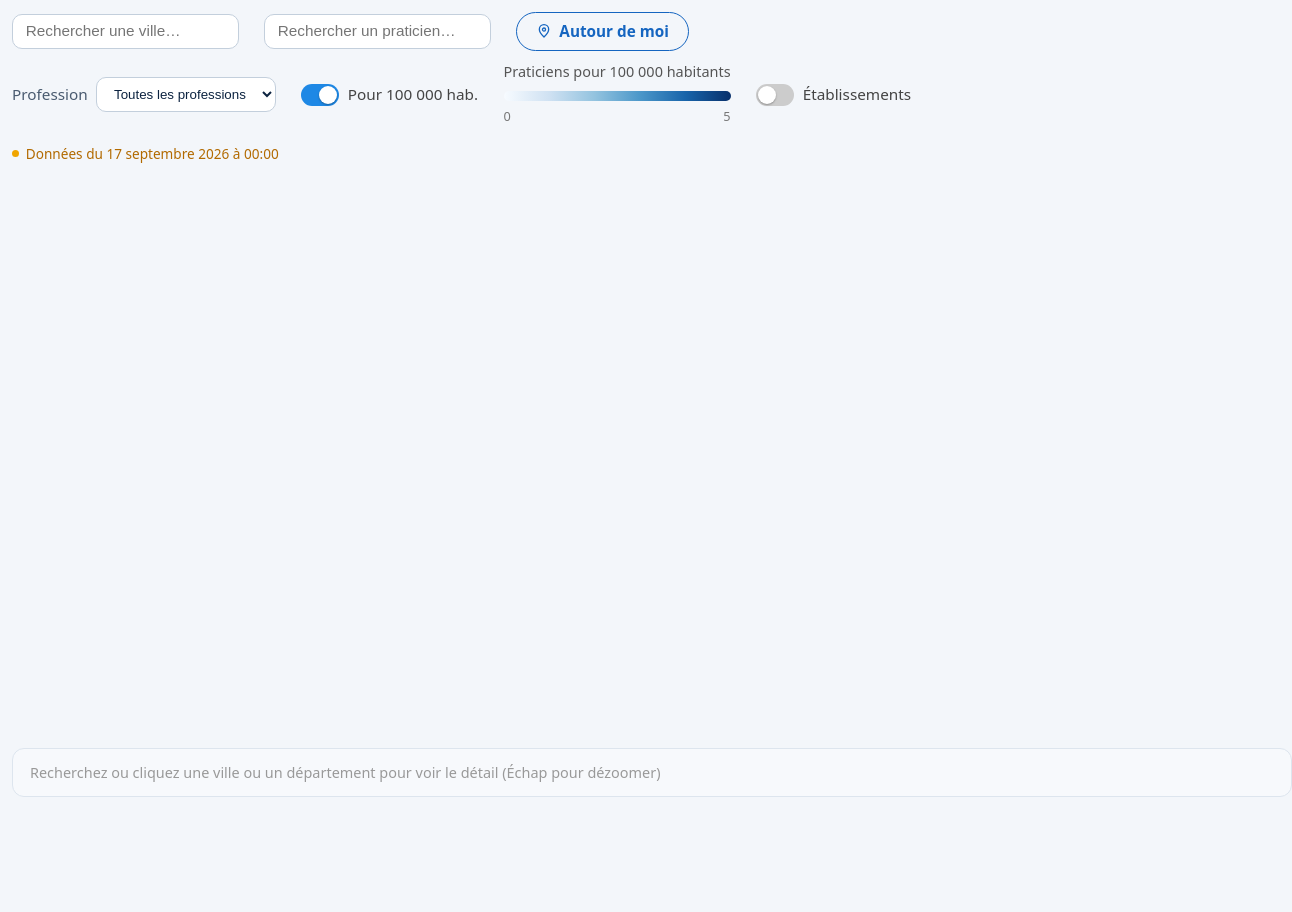
LeafletFranceMap › spécialités, densité et « autour de moi » › n'offre le choix de spécialité qu'aux professions qui en ont
Select "Médecin" in the dropdown labelled "Profession" at [186, 95], box [96, 77, 276, 112]
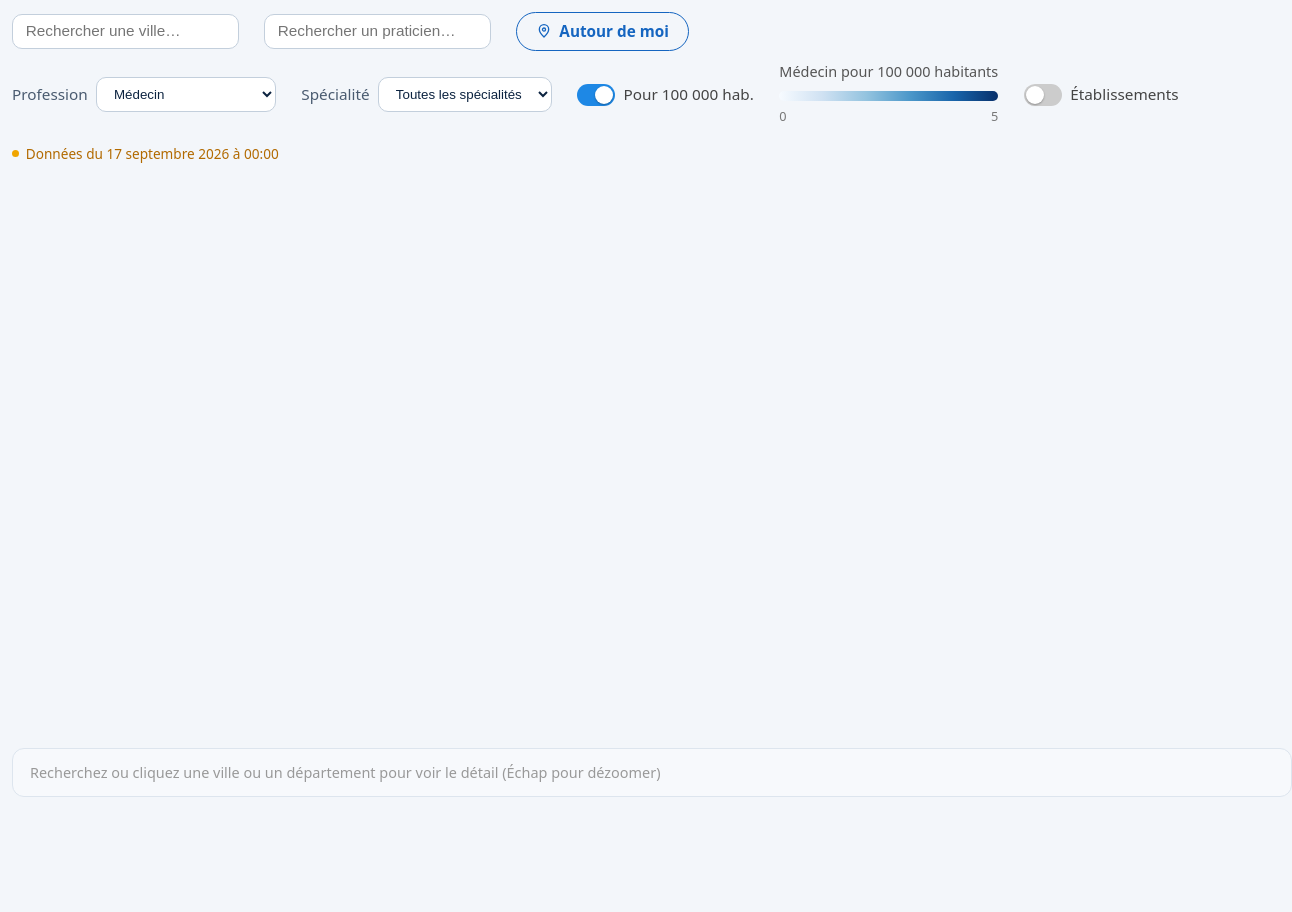
Check: the number of dropdowns is 2
Select "Infirmier" in the dropdown labelled "Profession" at [186, 95], box [96, 77, 276, 112]
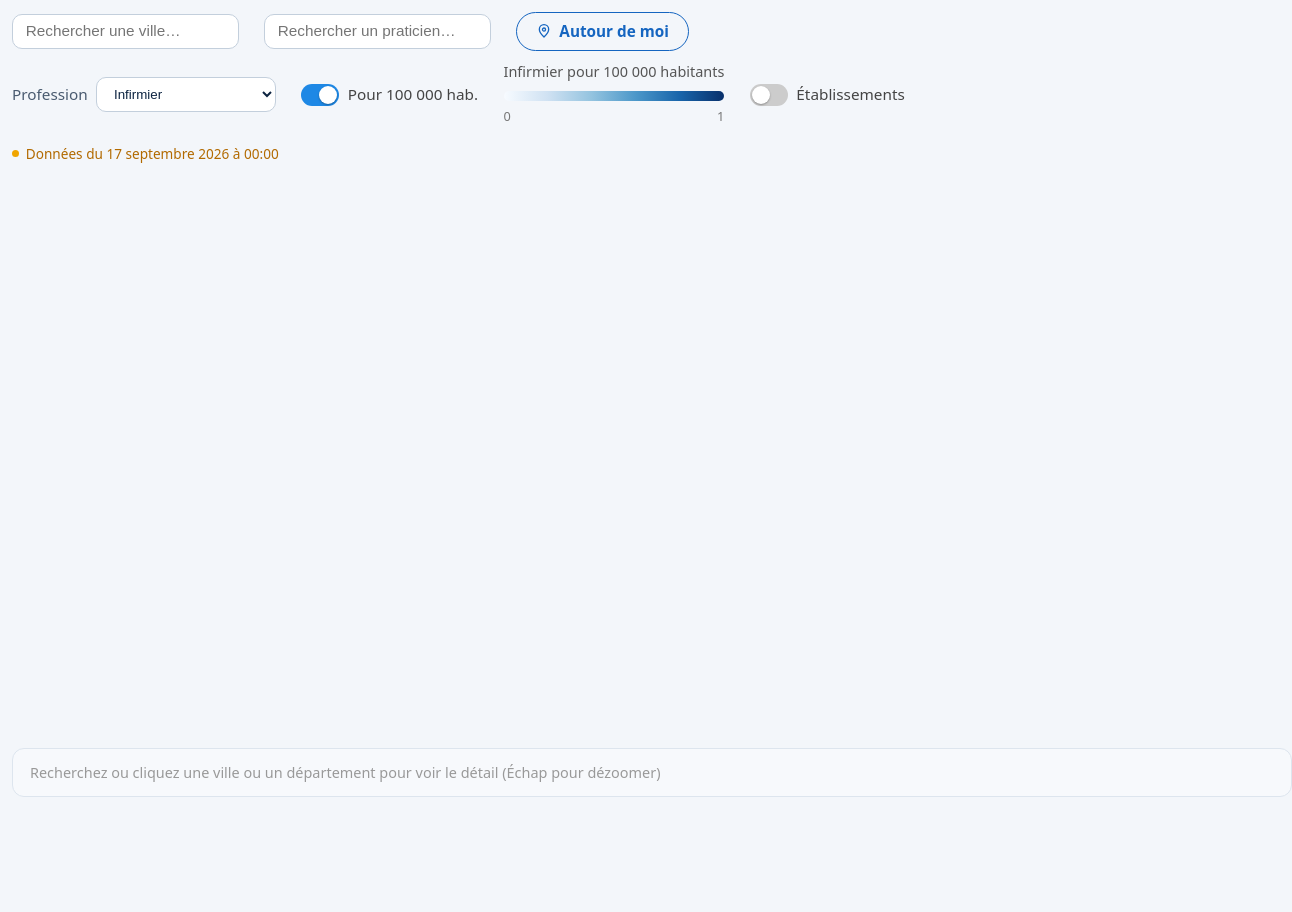
Check: the number of dropdowns is 1, box [96, 77, 276, 112]
